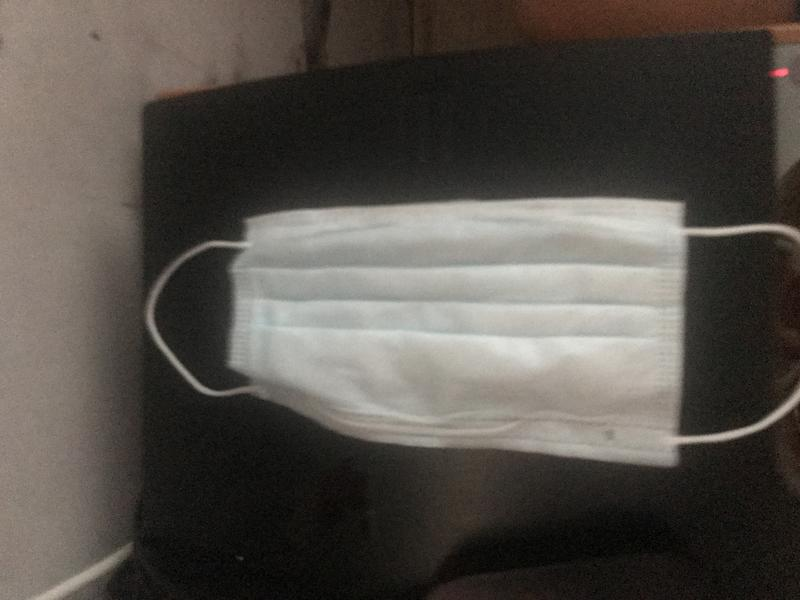medical_mask: (144, 200, 800, 469)
